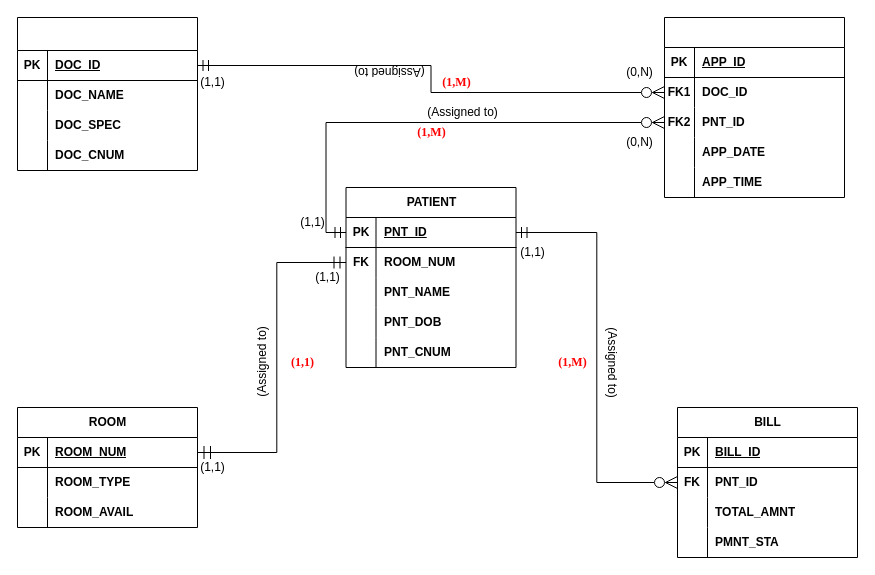
The diagram is 875 pixels wide and 575 high, and some of its shapes have lost their labels. The box of each missing label's shape, as (x1, y1, x2, y2) in pixels:
APPOINTMENT: (664, 16, 844, 198)
DOCTOR: (16, 16, 198, 170)
